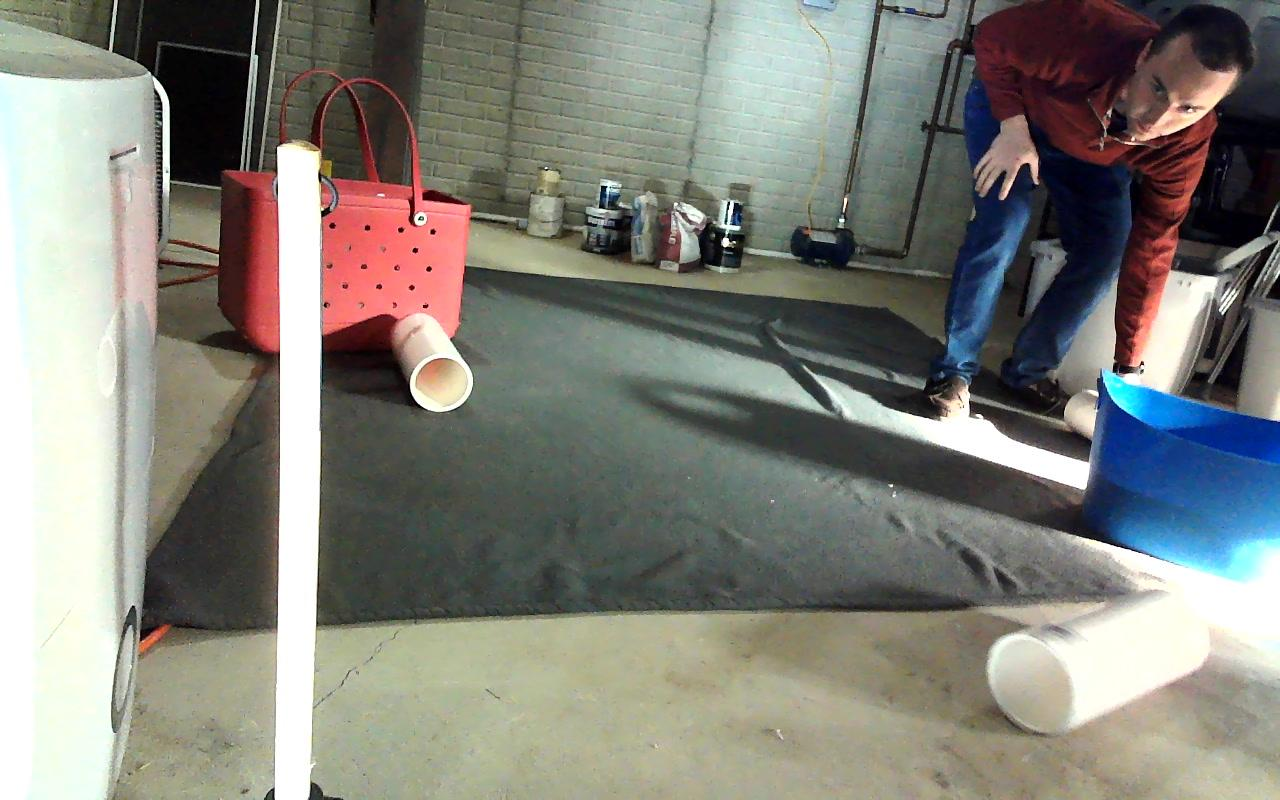coral: (987, 590, 1209, 733), (392, 312, 471, 411)
